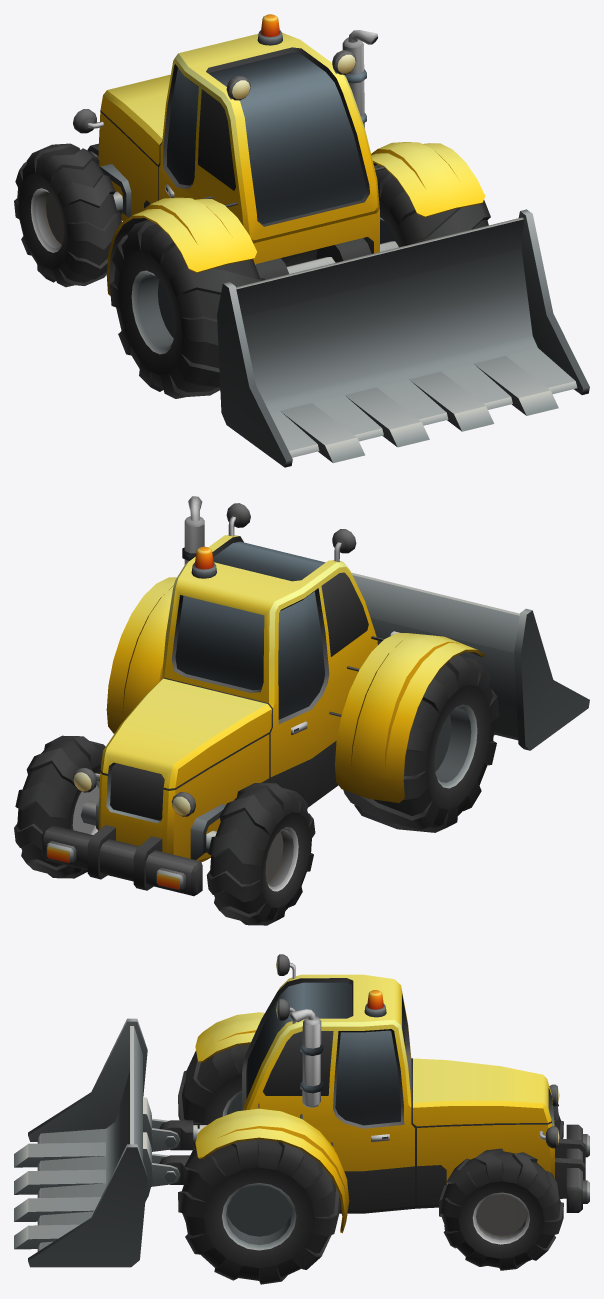
Rendered from Excavator_1A.fbx.
The picture shows the model from 3 angles, top to bottom: view 1: azimuth 30°, elevation 25°; view 2: azimuth 150°, elevation 25°; view 3: azimuth 270°, elevation 25°; orthographic projection. The views are drawn at different scales.
Parts seen in each view (by area): view 1: Excavator_Blade_1A, Excavator_1A_Body, Excavator_1A_Wheel_R.L, Excavator_1A_Wheel_F.L, Excavator_1A_Wheel_R.R, Excavator_Blade_Pivot_1A; view 2: Excavator_1A_Body, Excavator_Blade_1A, Excavator_1A_Wheel_R.L, Excavator_1A_Wheel_F.L, Excavator_1A_Wheel_F.R; view 3: Excavator_1A_Body, Excavator_Blade_1A, Excavator_1A_Wheel_R.R, Excavator_1A_Wheel_F.R, Excavator_1A_Wheel_R.L, Excavator_Blade_Pistons_1A.
Boxes of the visible parts, x1,y1,x2,y2 form: Excavator_Blade_1A: [217, 209, 589, 467]; Excavator_1A_Body: [73, 14, 485, 295]; Excavator_1A_Wheel_R.L: [109, 219, 264, 398]; Excavator_1A_Wheel_F.L: [14, 143, 121, 287]; Excavator_1A_Wheel_R.R: [374, 165, 490, 247]; Excavator_Blade_Pivot_1A: [255, 238, 371, 279]; Excavator_1A_Body: [41, 496, 484, 896]; Excavator_Blade_1A: [351, 572, 589, 750]; Excavator_1A_Wheel_R.L: [343, 655, 499, 832]; Excavator_1A_Wheel_F.L: [206, 783, 315, 925]; Excavator_1A_Wheel_F.R: [14, 735, 105, 878]; Excavator_1A_Body: [195, 954, 589, 1233]; Excavator_Blade_1A: [14, 1018, 180, 1267]; Excavator_1A_Wheel_R.R: [178, 1139, 340, 1284]; Excavator_1A_Wheel_F.R: [439, 1148, 563, 1270]; Excavator_1A_Wheel_R.L: [178, 1044, 249, 1149]; Excavator_Blade_Pistons_1A: [159, 1120, 199, 1184].
Bounding box in the file's own units: 3.97 × 3.57 × 7.41.
